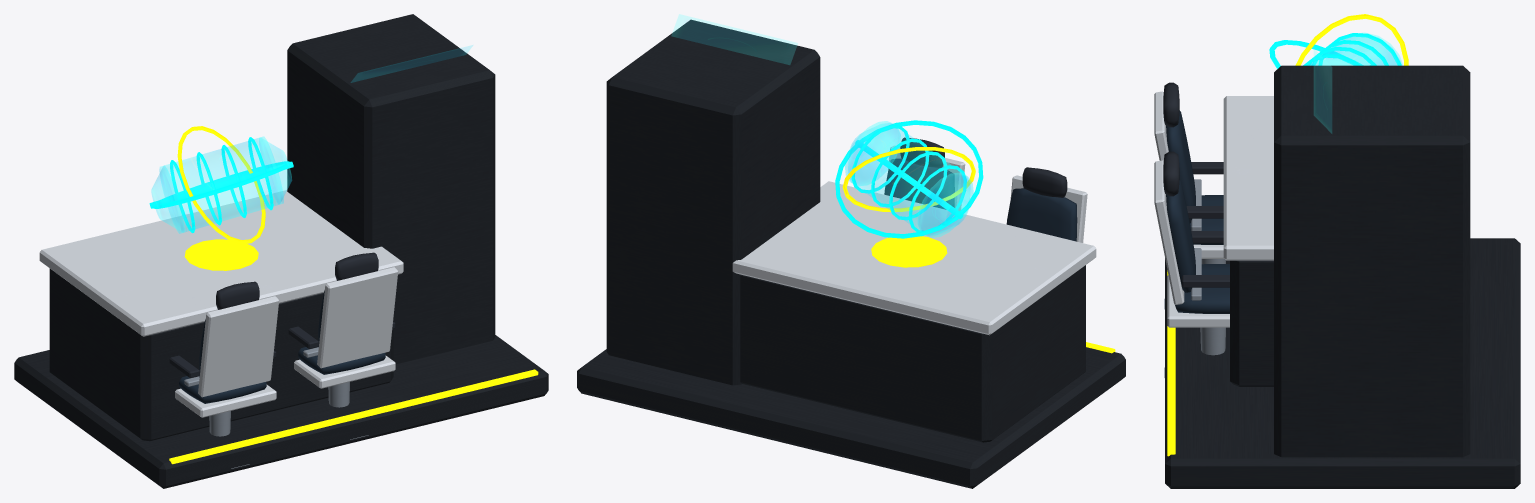
Rendered from bridge_console_r1_05.glb.
3 views of the same model, side by side, from view 1: azimuth 30°, elevation 25°; view 2: azimuth 150°, elevation 25°; view 3: azimuth 270°, elevation 25° (orthographic). The views are drawn at different scales.
Parts seen in each view (by area): view 1: Bridge05_CommandPodiumGunmetalHull, Bridge05_WhiteCowlingsAndChairs, Bridge05_TranslucentHoloCylinderAndHUD, Bridge05_AmberGimbalRingAndStepLED, Bridge05_CyanHoloWireframe, Bridge05_CharcoalBolsters, Bridge05_OrbitalNavyCushions, Bridge05_MachinedSteelGimbalsAndThrottles; view 2: Bridge05_CommandPodiumGunmetalHull, Bridge05_WhiteCowlingsAndChairs, Bridge05_TranslucentHoloCylinderAndHUD, Bridge05_CyanHoloWireframe, Bridge05_OrbitalNavyCushions, Bridge05_AmberGimbalRingAndStepLED, Bridge05_CharcoalBolsters; view 3: Bridge05_CommandPodiumGunmetalHull, Bridge05_WhiteCowlingsAndChairs, Bridge05_OrbitalNavyCushions, Bridge05_CharcoalBolsters, Bridge05_TranslucentHoloCylinderAndHUD, Bridge05_AmberGimbalRingAndStepLED, Bridge05_CyanHoloWireframe, Bridge05_MachinedSteelGimbalsAndThrottles.
Boxes of the visible parts, x1,y1,x2,y2 form: Bridge05_CommandPodiumGunmetalHull: [14, 14, 548, 488]; Bridge05_WhiteCowlingsAndChairs: [39, 190, 403, 417]; Bridge05_TranslucentHoloCylinderAndHUD: [151, 45, 472, 233]; Bridge05_AmberGimbalRingAndStepLED: [169, 126, 538, 464]; Bridge05_CyanHoloWireframe: [149, 137, 293, 233]; Bridge05_CharcoalBolsters: [169, 252, 395, 378]; Bridge05_OrbitalNavyCushions: [179, 290, 385, 403]; Bridge05_MachinedSteelGimbalsAndThrottles: [184, 347, 368, 468]; Bridge05_CommandPodiumGunmetalHull: [577, 19, 1125, 488]; Bridge05_WhiteCowlingsAndChairs: [732, 145, 1096, 335]; Bridge05_TranslucentHoloCylinderAndHUD: [672, 14, 973, 237]; Bridge05_CyanHoloWireframe: [835, 120, 983, 238]; Bridge05_OrbitalNavyCushions: [884, 158, 1077, 241]; Bridge05_AmberGimbalRingAndStepLED: [842, 147, 1115, 353]; Bridge05_CharcoalBolsters: [900, 137, 1067, 197]; Bridge05_CommandPodiumGunmetalHull: [1165, 65, 1520, 488]; Bridge05_WhiteCowlingsAndChairs: [1154, 91, 1273, 327]; Bridge05_OrbitalNavyCushions: [1166, 110, 1229, 313]; Bridge05_CharcoalBolsters: [1163, 82, 1229, 287]; Bridge05_TranslucentHoloCylinderAndHUD: [1308, 32, 1402, 132]; Bridge05_AmberGimbalRingAndStepLED: [1167, 14, 1408, 456]; Bridge05_CyanHoloWireframe: [1269, 33, 1401, 68]; Bridge05_MachinedSteelGimbalsAndThrottles: [1164, 179, 1225, 377].
Bounding box in the file's own units: 2.55 × 1.94 × 1.75.
11 materials, 11 textured.
